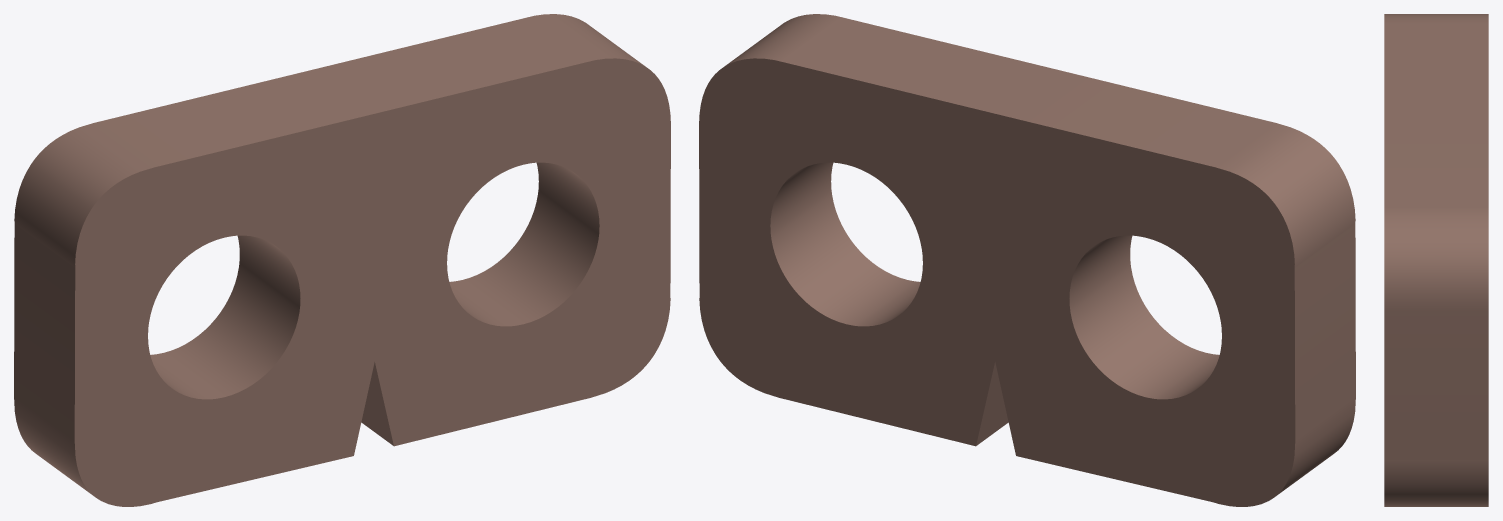
The model's file is gogglesBrown.dae.
3 renders of one model, left to right at view 1: azimuth 30°, elevation 25°; view 2: azimuth 150°, elevation 25°; view 3: azimuth 270°, elevation 25°, orthographic. The views are drawn at different scales.
Parts seen in each view (by area): view 1: VR_Goggles; view 2: VR_Goggles; view 3: VR_Goggles.
Part boxes in pixels (x1,y1,x2,y2): VR_Goggles: [14, 14, 670, 506]; VR_Goggles: [699, 14, 1355, 506]; VR_Goggles: [1384, 14, 1488, 506].
Size of the model in its own units: 57.52 by 31.1 by 10.14.
